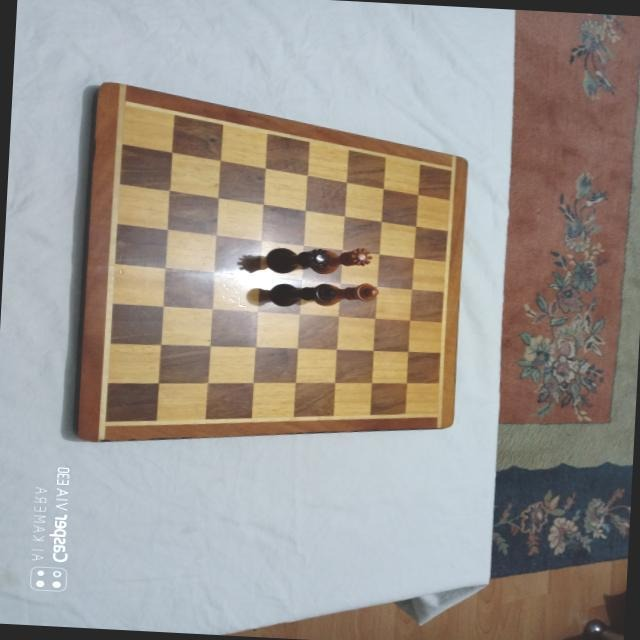black-king: (269, 281, 338, 311)
black-queen: (264, 246, 331, 277)
white-king: (313, 282, 379, 310)
white-queen: (309, 244, 372, 277)
